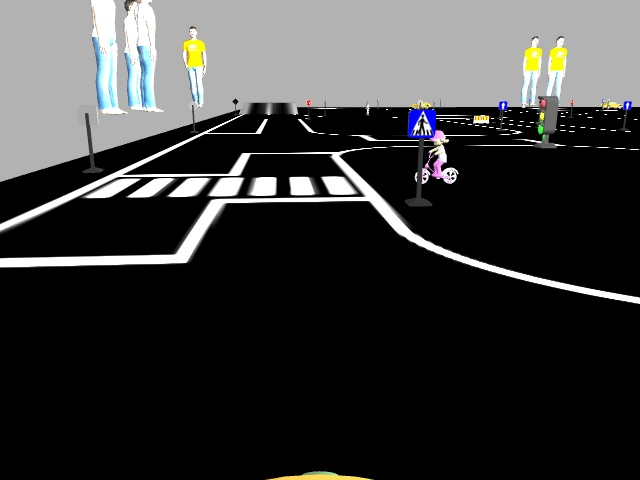Crosswalk: (406, 108, 435, 137)
Pedestrian: (412, 127, 461, 185)
TrafficLight: (536, 94, 559, 135)
